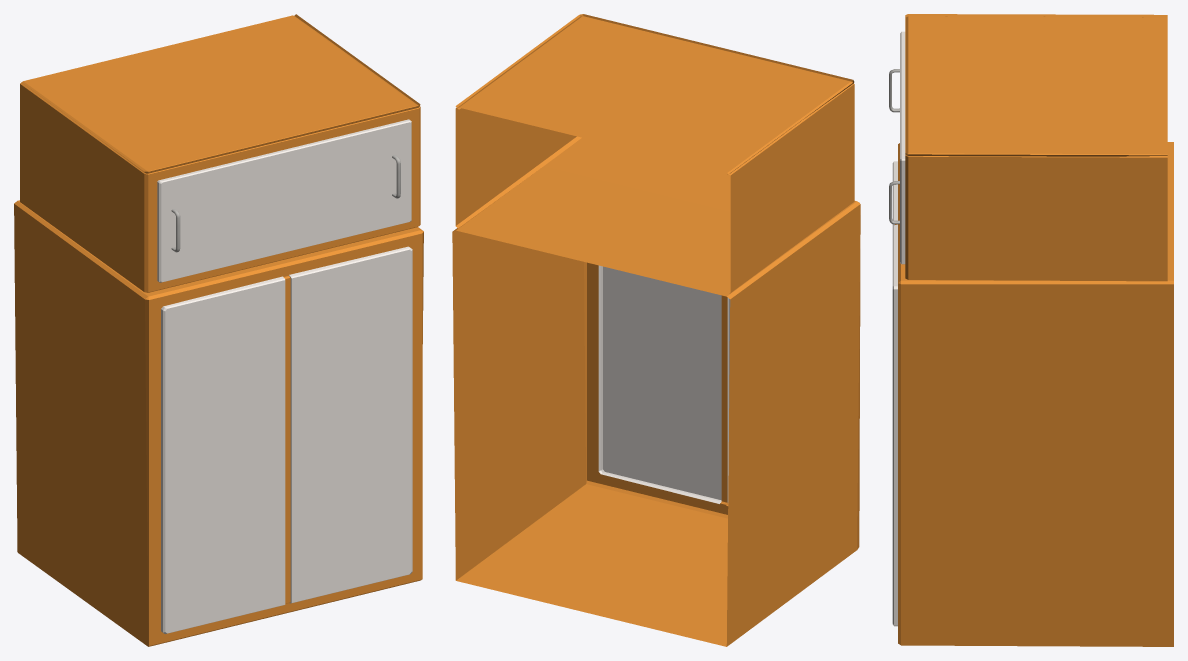
Rendered from ExtraCabinet.fbx.
3 renders of one model, left to right at view 1: azimuth 30°, elevation 25°; view 2: azimuth 150°, elevation 25°; view 3: azimuth 270°, elevation 25°, orthographic. The views are drawn at different scales.
Parts seen in each view (by area): view 1: modelingCabinets.002; view 2: modelingCabinets.002; view 3: modelingCabinets.002.
Boxes of the visible parts, x1,y1,x2,y2 form: modelingCabinets.002: [14, 14, 423, 646]; modelingCabinets.002: [452, 14, 860, 646]; modelingCabinets.002: [889, 14, 1173, 646].
Bounding box in the file's own units: 7.16 × 11.65 × 6.08.
